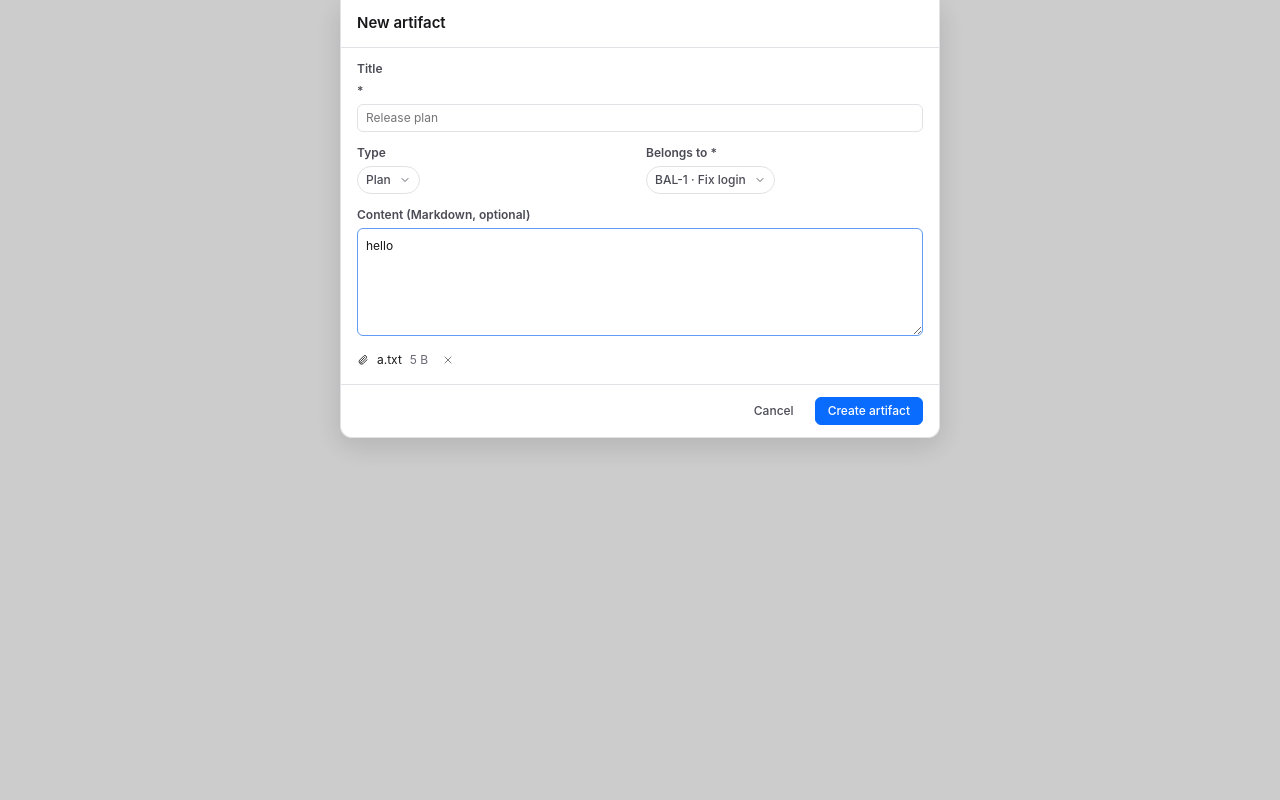
NewArtifactDialog › keeps Type when the plan already has content, and lets a file be removed
The width and height of the screenshot is (1280, 800).
Earlier steps of the test are not shown.
Expected: the button with aria-label "Type" reads "Plan", x1=357 y1=166 x2=420 y2=194
Click the button named "remove a.txt": coordinates (448, 360) x1=436 y1=348 x2=460 y2=372
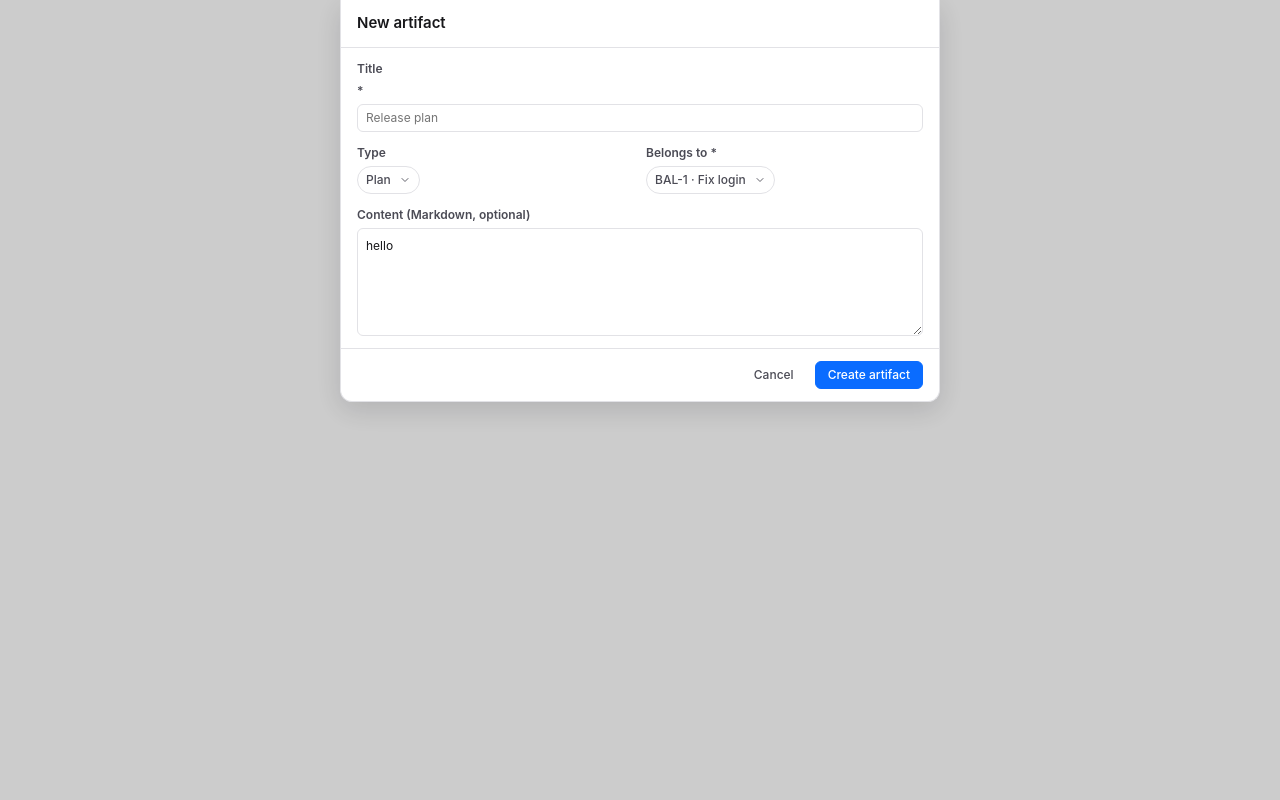
Now the text "a.txt" is gone
